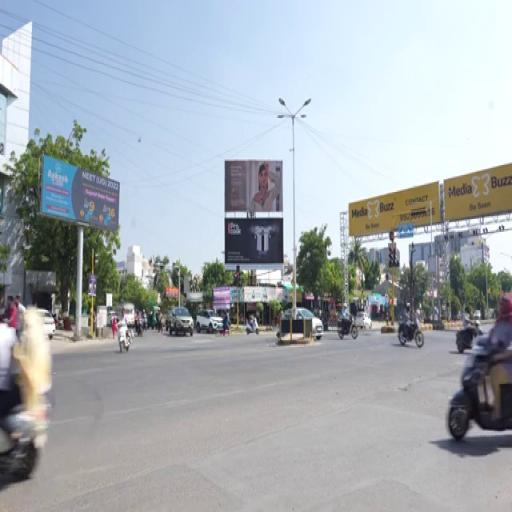Car: (296, 308, 323, 339), (168, 308, 193, 335), (196, 309, 222, 334), (38, 309, 55, 339), (355, 312, 371, 329)
